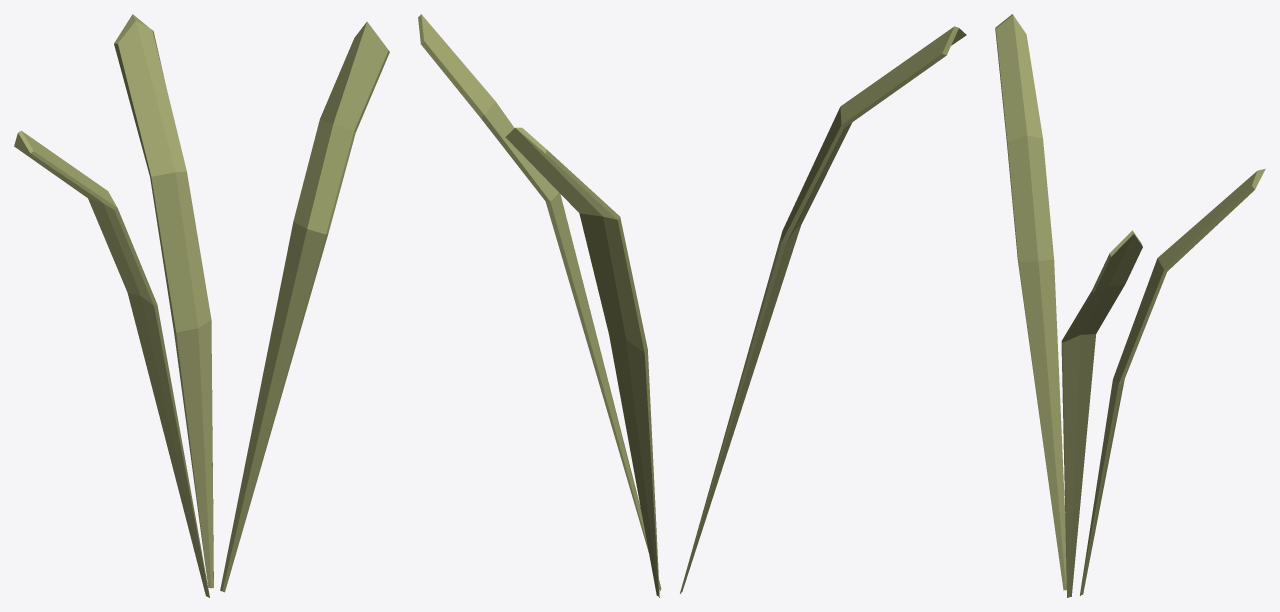
Rendered from Reed_5.fbx.
3 views of the same model, side by side, from view 1: azimuth 30°, elevation 25°; view 2: azimuth 150°, elevation 25°; view 3: azimuth 270°, elevation 25° (orthographic). The views are drawn at different scales.
Visible parts, largest first — view 1: Reed_5; view 2: Reed_5; view 3: Reed_5.
Boxes of the visible parts, bbox=[...] form: Reed_5: bbox=[14, 14, 389, 597]; Reed_5: bbox=[418, 14, 966, 597]; Reed_5: bbox=[995, 14, 1265, 597].
Size of the model in its own units: 0.0154 by 0.0186 by 0.00946.
